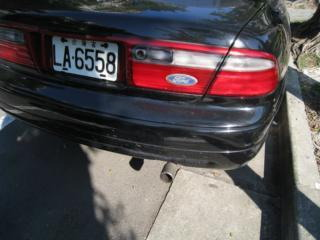plate: (48, 33, 118, 81)
